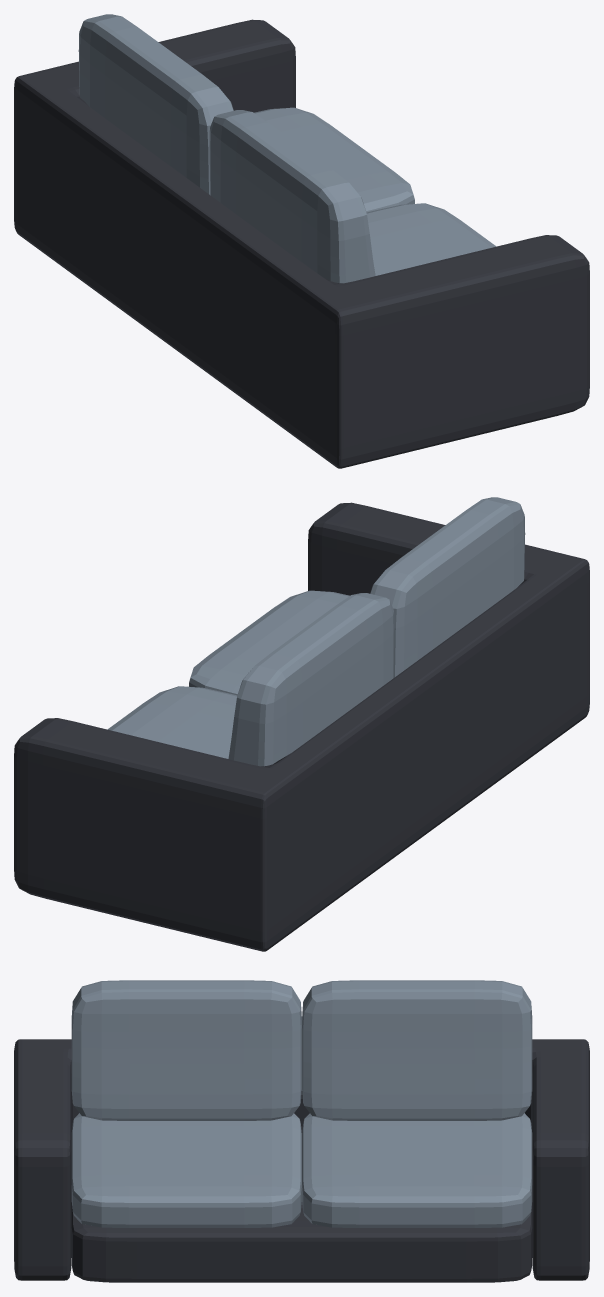
File: sofa.fbx
3 views of the same model, one above another, from view 1: azimuth 30°, elevation 25°; view 2: azimuth 150°, elevation 25°; view 3: azimuth 270°, elevation 25° (orthographic). The views are drawn at different scales.
Visible parts, largest first — view 1: Cube.001, Cube.004, Cube.005, Cube.003, Cube.002; view 2: Cube.001, Cube.005, Cube.004, Cube.002, Cube.003; view 3: Cube.004, Cube.005, Cube.001, Cube, Cube.002, Cube.003.
Boxes of the visible parts, box(x1,y1,x2,y2) form: Cube.001: box(14, 19, 589, 468); Cube.004: box(209, 110, 375, 283); Cube.005: box(78, 14, 233, 194); Cube.003: box(366, 203, 496, 275); Cube.002: box(254, 107, 414, 212); Cube.001: box(14, 502, 589, 951); Cube.005: box(228, 593, 394, 766); Cube.004: box(370, 497, 525, 677); Cube.002: box(107, 686, 237, 758); Cube.003: box(189, 590, 349, 695); Cube.004: box(71, 980, 301, 1120); Cube.005: box(302, 980, 532, 1120); Cube.001: box(14, 1039, 589, 1280); Cube: box(71, 1202, 532, 1282); Cube.002: box(302, 1113, 532, 1227); Cube.003: box(71, 1113, 301, 1227).
Bounding box in the file's own units: 224 × 203 × 500.
